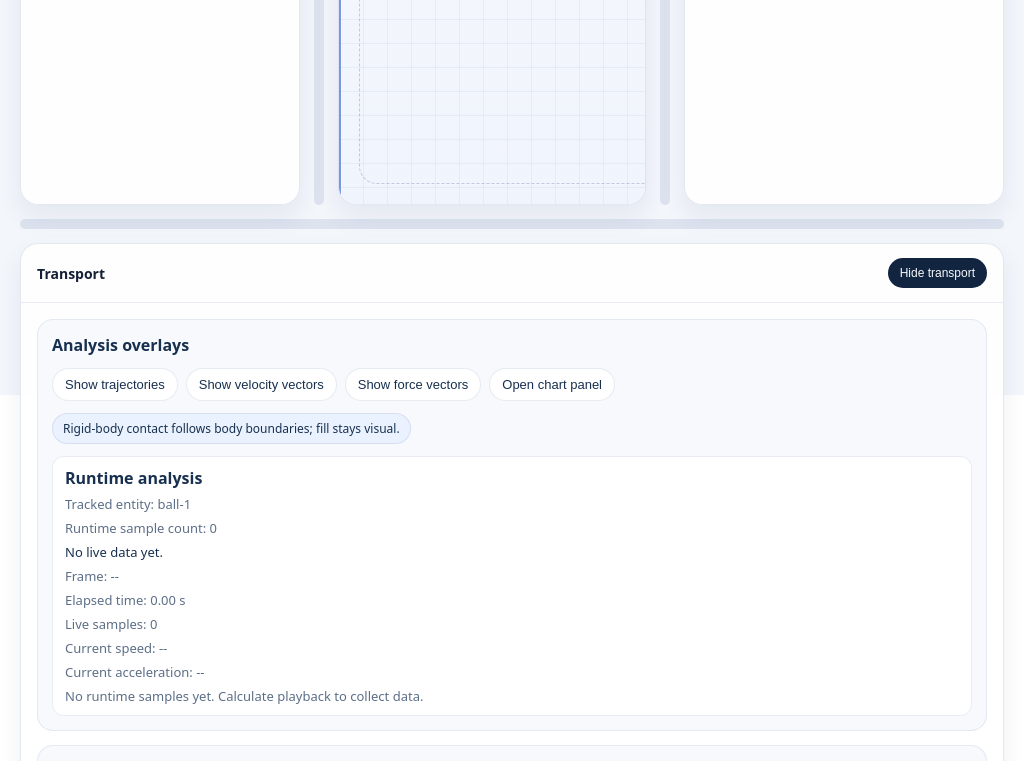
it: App runtime features › syncs analysis overlay toggles back into app display state
This screenshot has width=1024, height=761.
(page scrolled)
Click the button "Show trajectories".
click(115, 384)  # box [52,368,178,401]
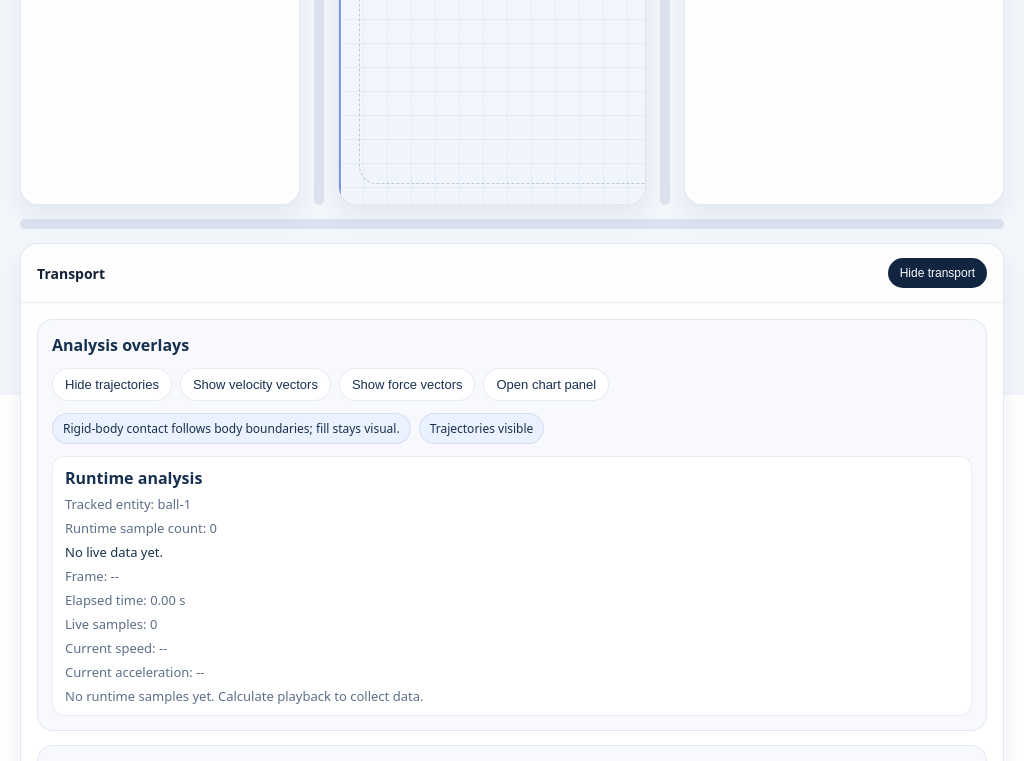
Expected: the text "Trajectories visible" is shown, [419,413,544,444]
